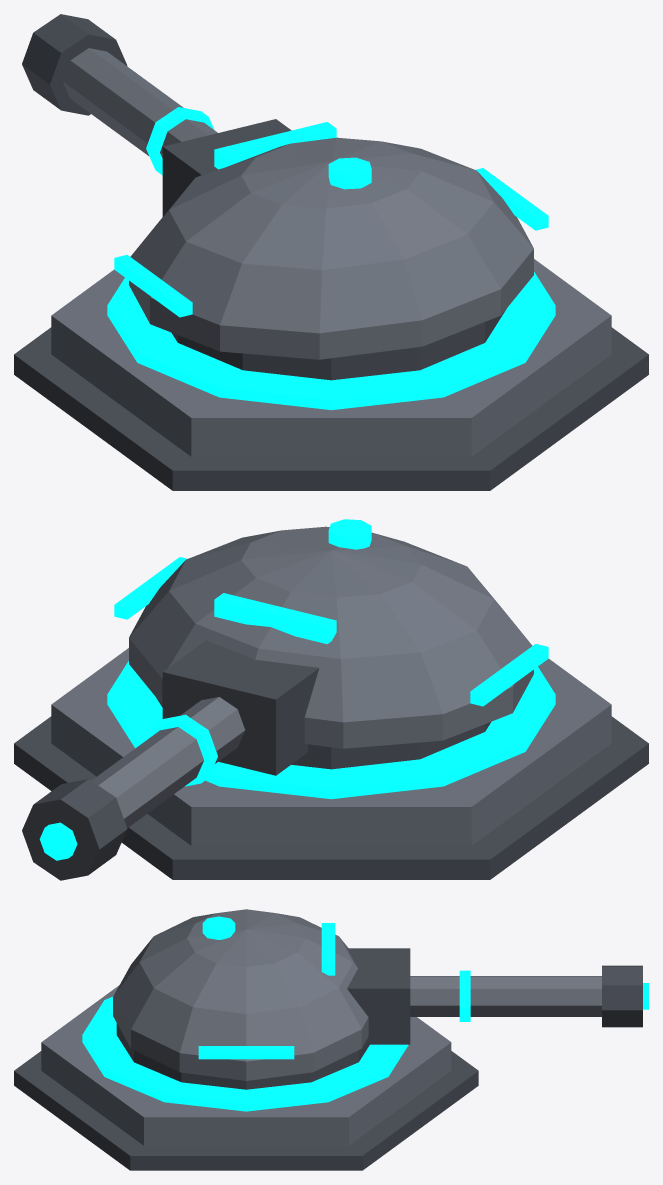
The model's file is turret_lvl1.fbx.
3 renders of one model, top to bottom at view 1: azimuth 30°, elevation 25°; view 2: azimuth 150°, elevation 25°; view 3: azimuth 270°, elevation 25°, orthographic. The views are drawn at different scales.
Visible parts, largest first — view 1: Dome_05, Base_01, BaseSkirt_02, Neon_BaseRing_03, Barrel_08, Pivot_04, Muzzle_09, BarrelMount_07, Neon_Visor_12, Neon_Strip_13, Neon_Strip_14, Neon_BarrelRing_10 (+1 smaller); view 2: Dome_05, Base_01, BaseSkirt_02, Neon_BaseRing_03, BarrelMount_07, Barrel_08, Muzzle_09, Pivot_04, Neon_Visor_12, Neon_Strip_13, Neon_BarrelRing_10, Neon_Strip_14 (+2 smaller); view 3: Dome_05, Base_01, BaseSkirt_02, Neon_BaseRing_03, Barrel_08, BarrelMount_07, Pivot_04, Muzzle_09, Neon_Strip_14, Neon_Visor_12, Neon_TopLight_06, Neon_BarrelRing_10.
Boxes of the visible parts, x1,y1,x2,y2 form: Dome_05: (129,137,533,359); Base_01: (51,259,611,456); BaseSkirt_02: (14,327,648,490); Neon_BaseRing_03: (107,272,555,410); Barrel_08: (63,48,217,157); Pivot_04: (171,308,506,380); Muzzle_09: (22,14,127,115); BarrelMount_07: (162,119,291,216); Neon_Visor_12: (214,122,336,169); Neon_Strip_13: (114,254,192,317); Neon_Strip_14: (475,168,548,230); Neon_BarrelRing_10: (146,107,214,175); Dome_05: (129,526,533,748); Base_01: (51,648,611,845); BaseSkirt_02: (14,716,648,879); Neon_BaseRing_03: (107,661,555,799); BarrelMount_07: (162,640,319,775); Barrel_08: (91,697,245,827); Muzzle_09: (22,779,127,880); Pivot_04: (156,698,491,769); Neon_Visor_12: (214,593,336,644); Neon_Strip_13: (470,644,548,706); Neon_BarrelRing_10: (149,714,217,786); Neon_Strip_14: (114,557,187,619); Dome_05: (113,909,368,1080); Base_01: (41,985,451,1145); BaseSkirt_02: (14,1051,478,1170); Neon_BaseRing_03: (82,996,408,1111); Barrel_08: (410,976,601,1016); BarrelMount_07: (347,948,410,1044); Pivot_04: (116,1023,369,1089); Muzzle_09: (602,965,642,1027); Neon_Strip_14: (198,1046,294,1059); Neon_Visor_12: (321,923,335,975); Neon_TopLight_06: (202,916,235,939); Neon_BarrelRing_10: (459,970,470,1021).
Size of the model in its own units: 294 by 131 by 465.
